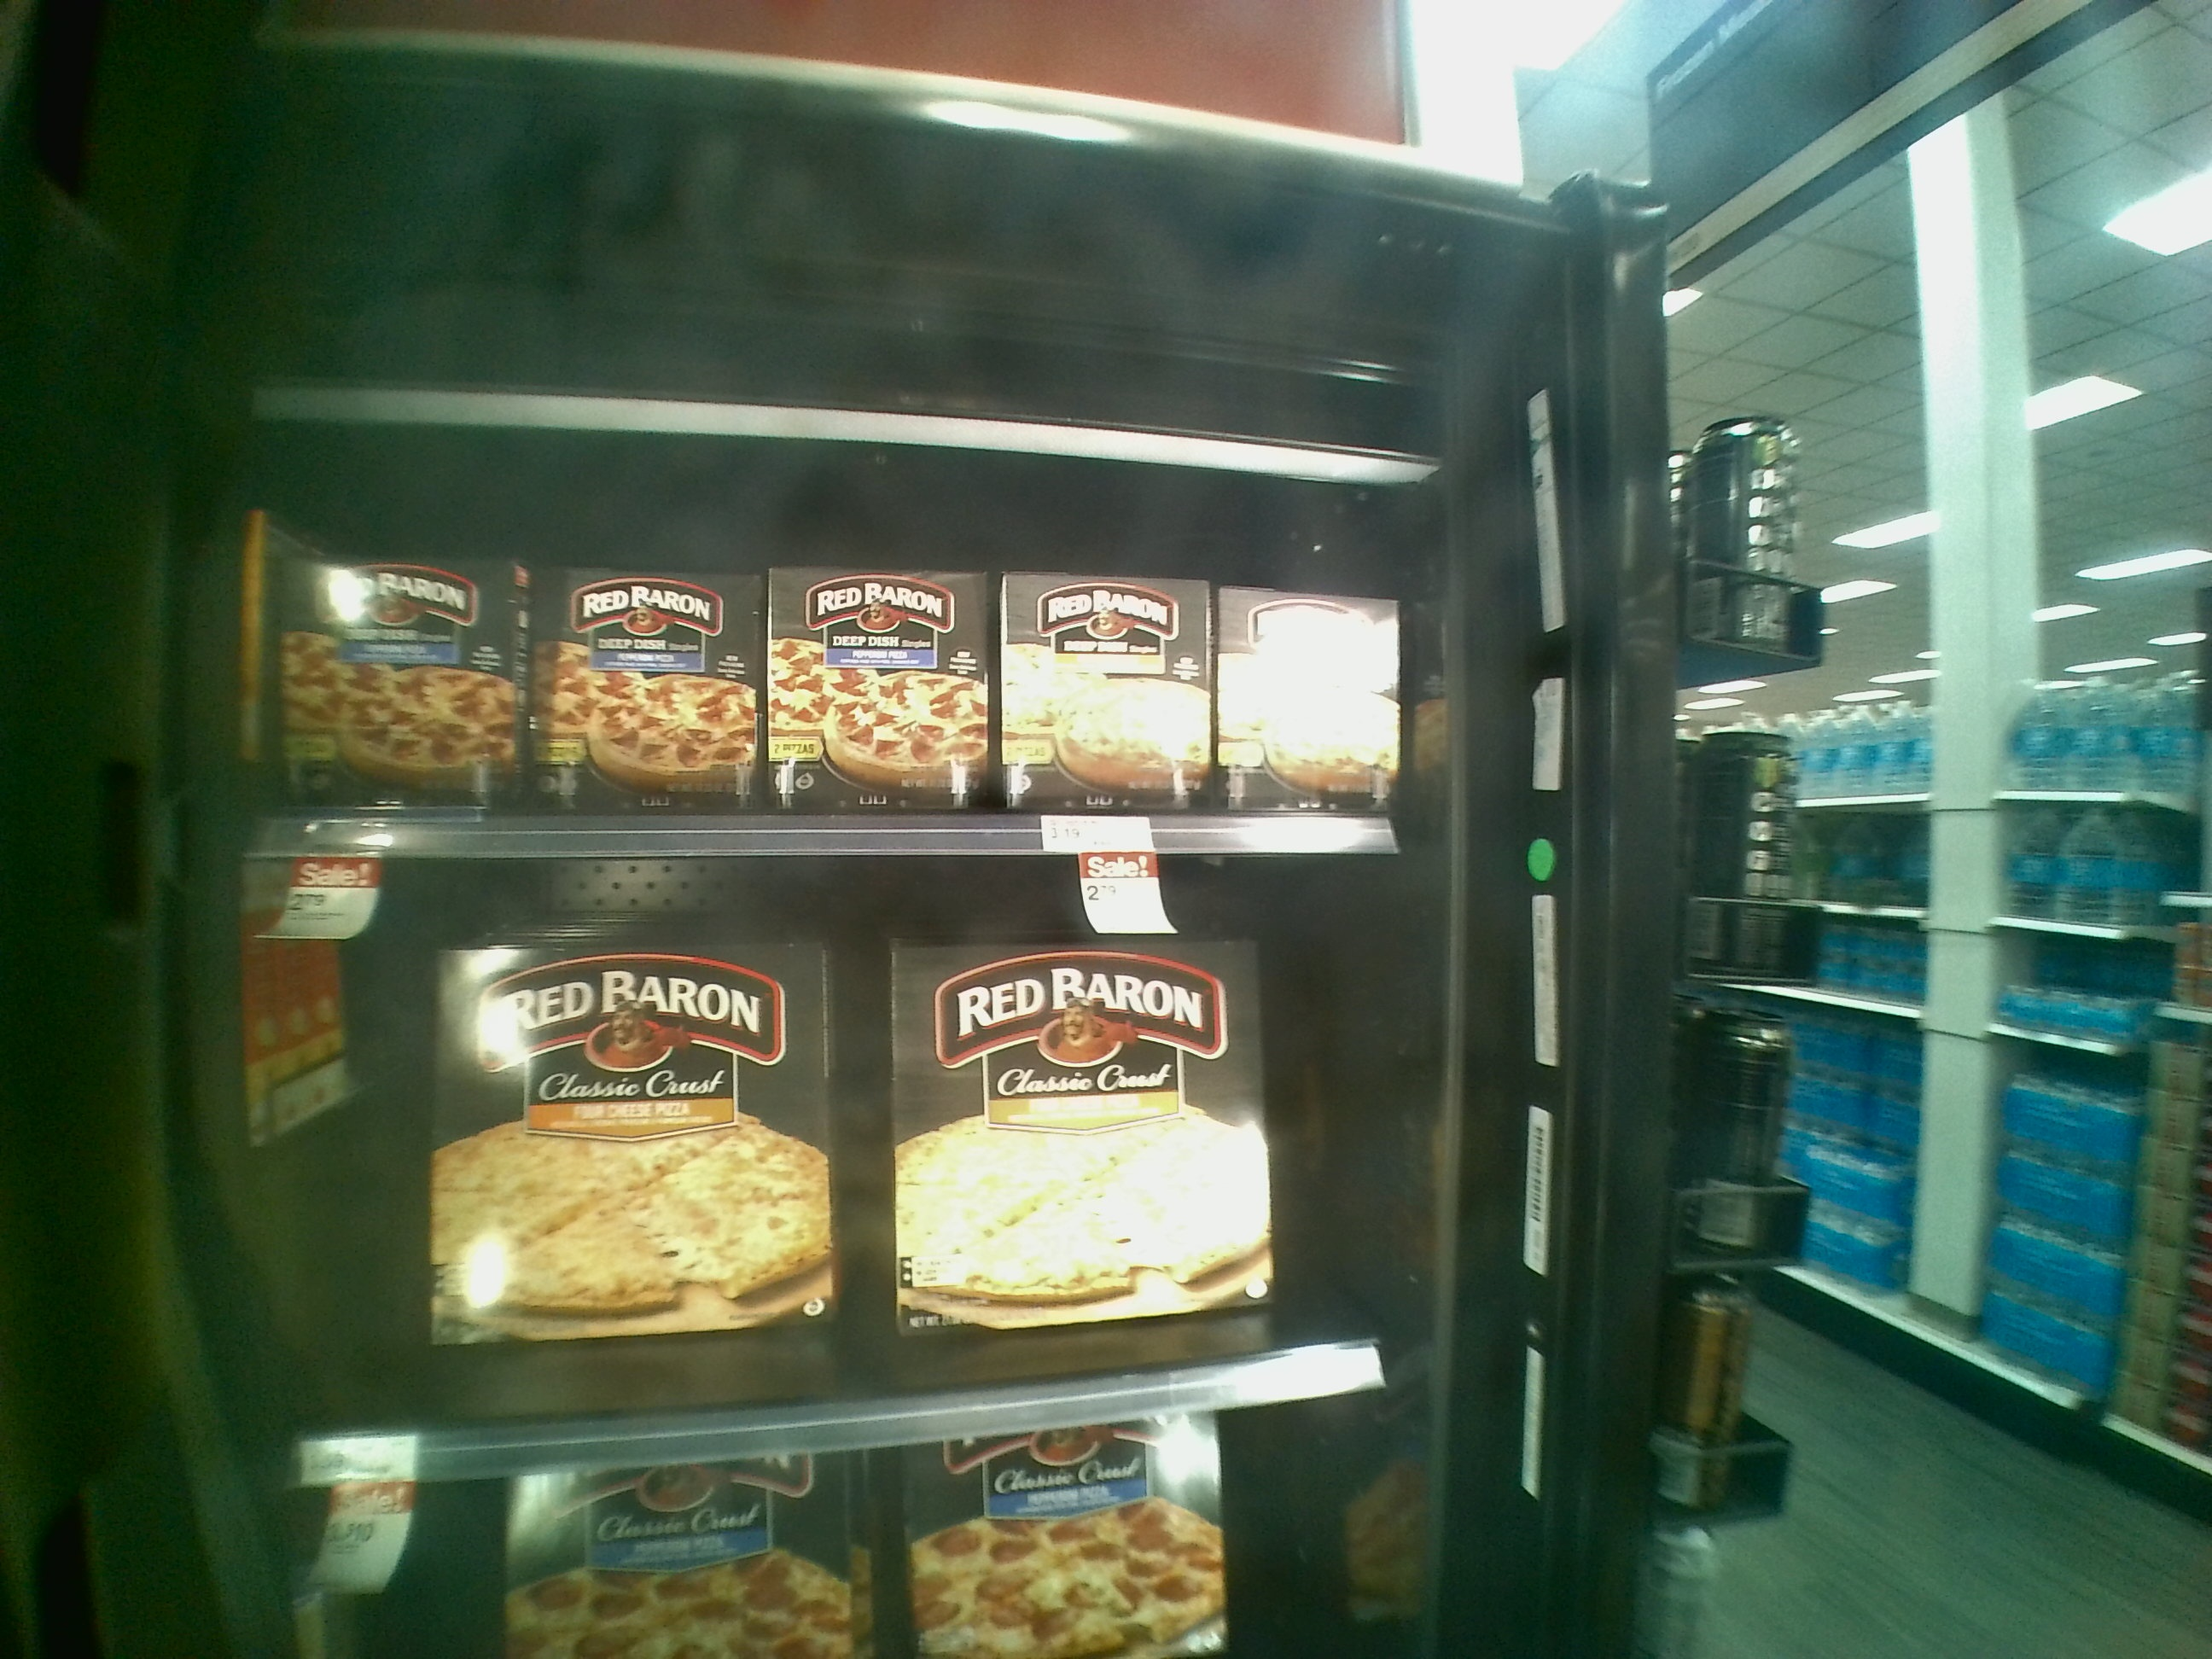shelf: (280, 864, 1381, 1466), (260, 451, 1421, 871)
